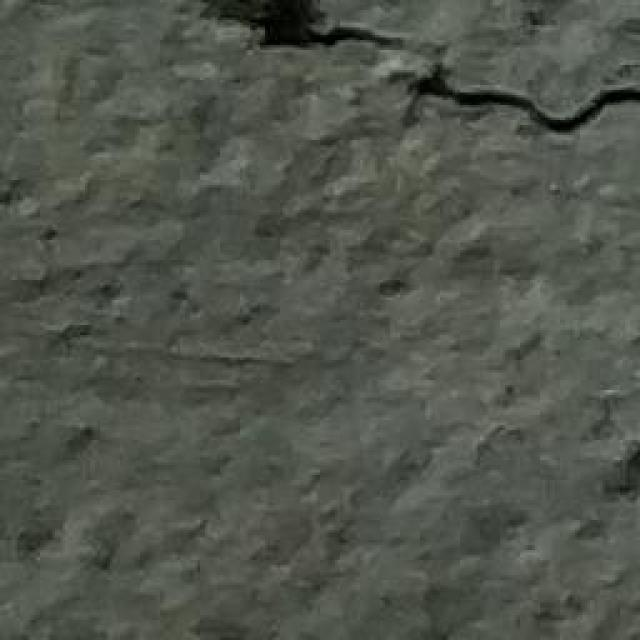Transverse: (135, 1, 640, 146)
